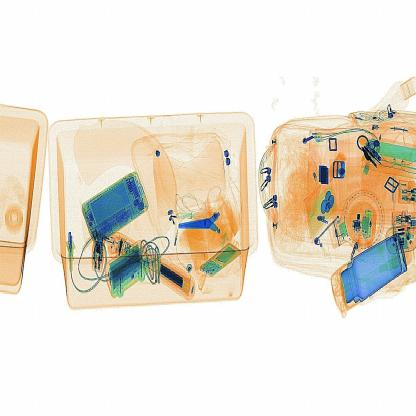gun: (177, 201, 243, 250)
